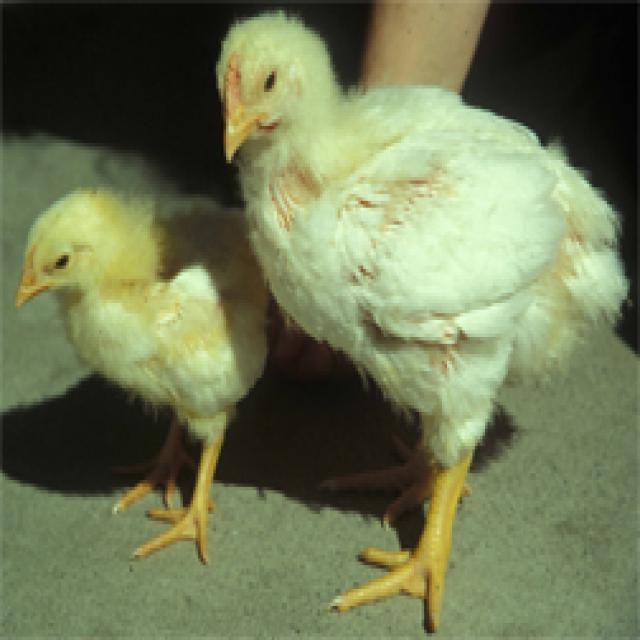poussin: (204, 10, 632, 640), (15, 185, 270, 564)
